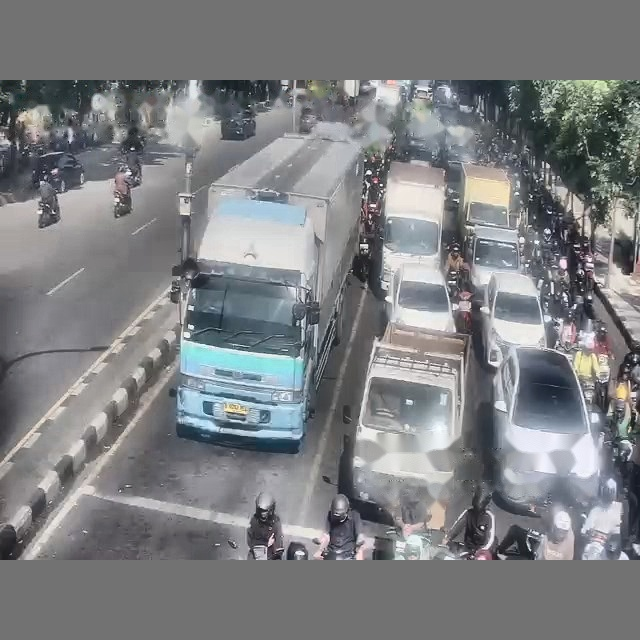Mobil: (493, 347, 600, 512), (480, 273, 549, 367), (384, 262, 455, 332), (467, 225, 520, 294), (32, 152, 84, 192), (220, 109, 255, 139), (299, 106, 321, 133), (413, 80, 432, 100)
Motor: (38, 201, 59, 228), (113, 191, 131, 217)
Truk: (174, 134, 362, 451), (339, 324, 470, 528), (379, 161, 445, 290), (459, 163, 510, 238)
